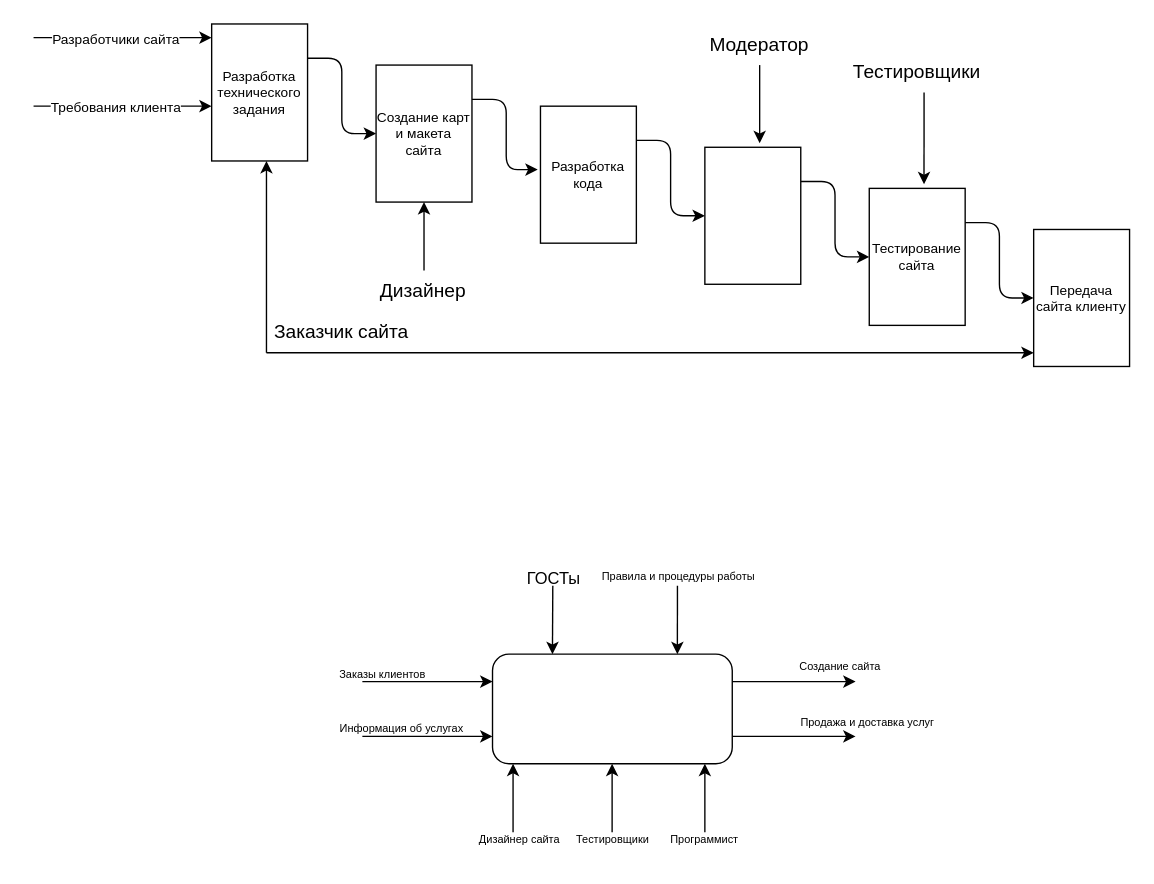
The diagram is 1154 pixels wide and 884 high, and some of its shapes have lost their labels. Here are the shapes that lost their labels. From the top down, the centre of each, then its label:
the point at 752,215: Публикация сайта
the point at 611,708: Сайт «Flies »
